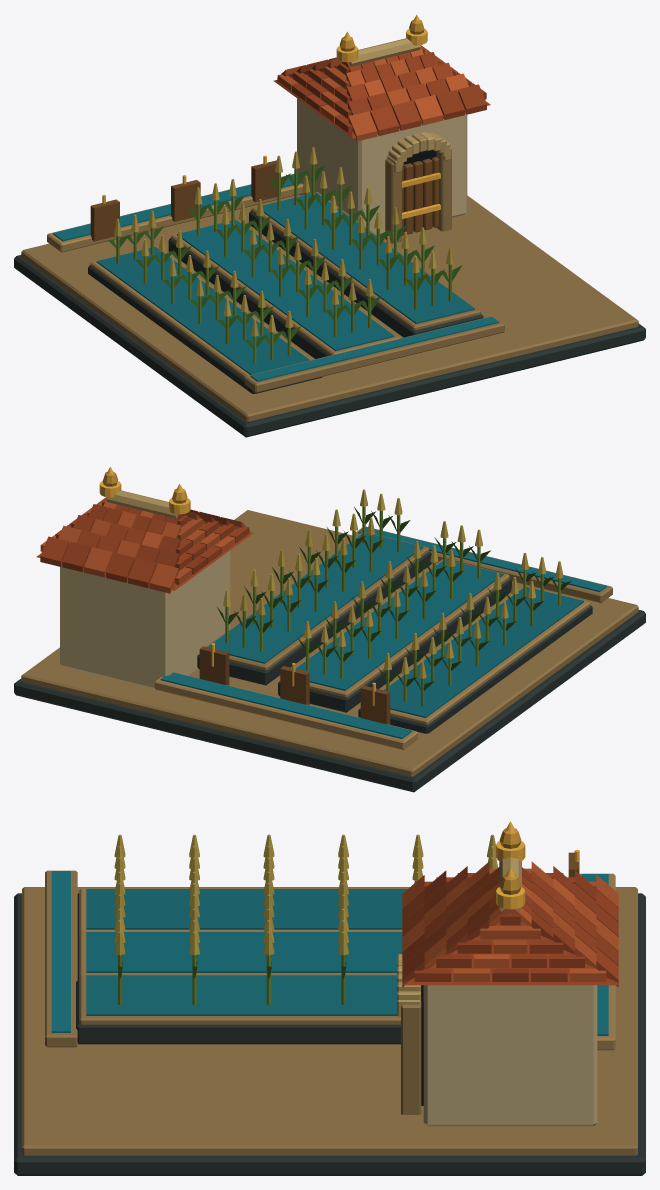
3 renders of one model, top to bottom at view 1: azimuth 30°, elevation 25°; view 2: azimuth 150°, elevation 25°; view 3: azimuth 270°, elevation 25°, orthographic. The views are drawn at different scales.
Parts seen in each view (by area): view 1: farm_3_structure, farm_3_metal; view 2: farm_3_structure, farm_3_metal; view 3: farm_3_structure, farm_3_metal.
Part boxes in pixels (x1,y1,x2,y2): farm_3_structure: [14, 20, 645, 437]; farm_3_metal: [102, 14, 440, 218]; farm_3_structure: [14, 472, 645, 792]; farm_3_metal: [99, 467, 375, 705]; farm_3_structure: [14, 828, 645, 1175]; farm_3_metal: [496, 821, 579, 909].
Bounding box in the file's own units: 5.6 × 2.72 × 5.6.
